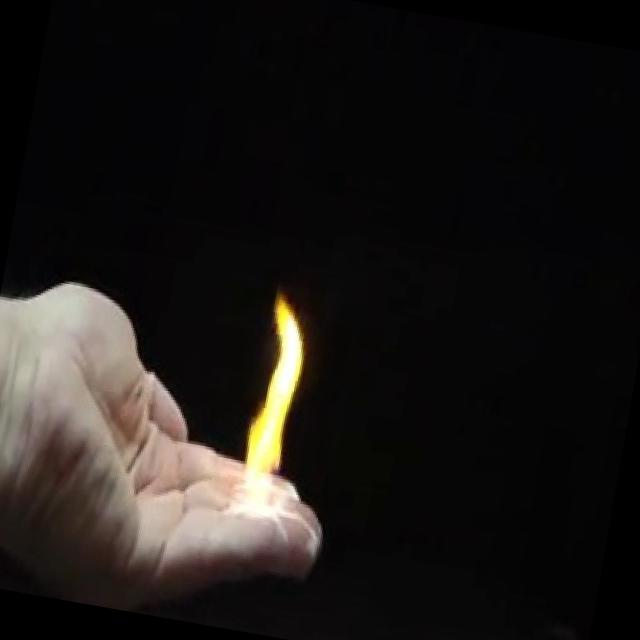Fire: (228, 282, 320, 517)
